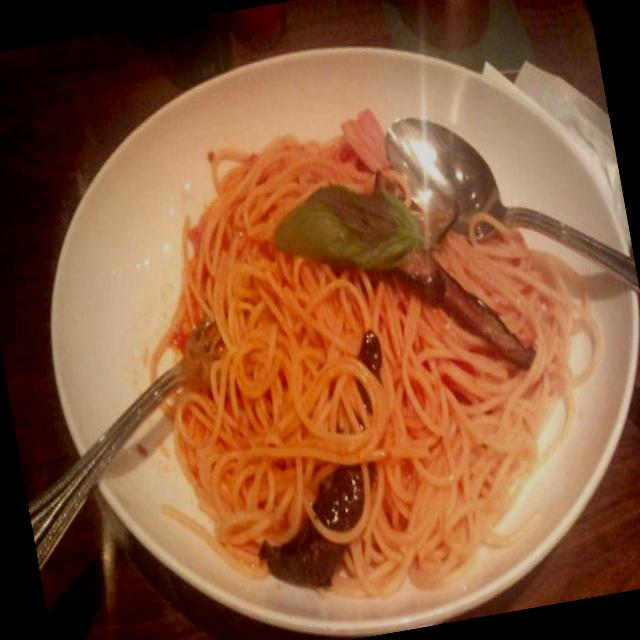Pasta: (123, 113, 584, 607)
